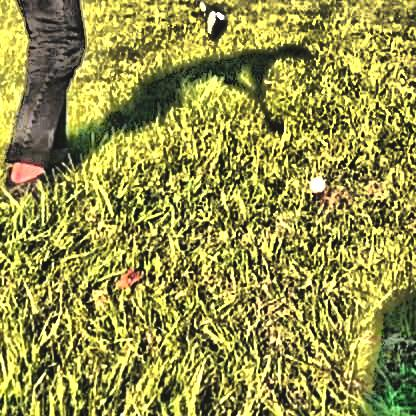golfball: (305, 174, 322, 191)
